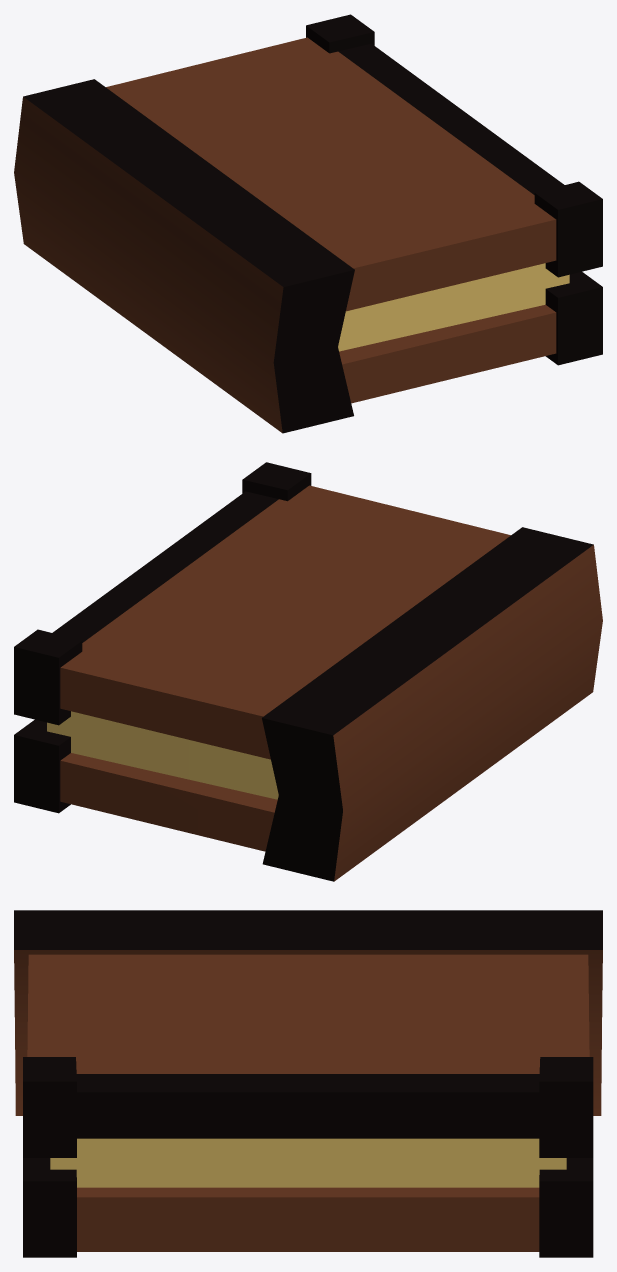
The model's file is closed_book.fbx.
3 views of the same model, one above another, from view 1: azimuth 30°, elevation 25°; view 2: azimuth 150°, elevation 25°; view 3: azimuth 270°, elevation 25° (orthographic). The views are drawn at different scales.
Visible parts, largest first — view 1: Cube.002; view 2: Cube.002; view 3: Cube.002.
Boxes of the visible parts, x1,y1,x2,y2 form: Cube.002: [14, 14, 602, 433]; Cube.002: [14, 462, 602, 881]; Cube.002: [14, 910, 602, 1257].
Bounding box in the file's own units: 71.12 × 31.74 × 96.39.
